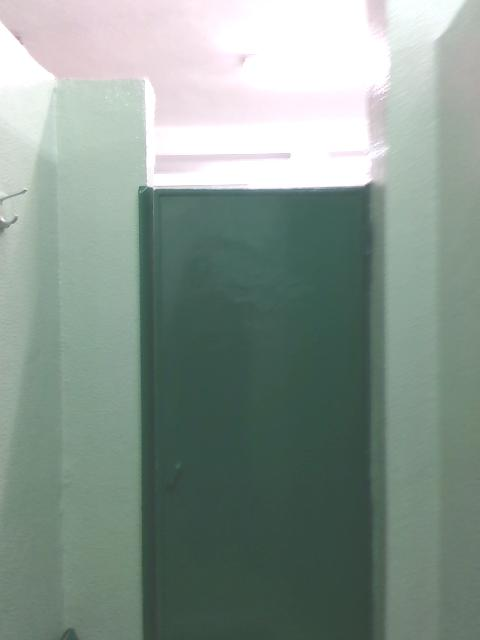closed_door: (133, 186, 370, 638)
